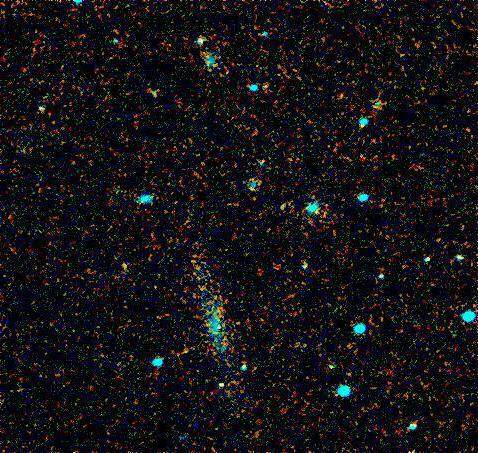star: (205, 371, 235, 401)
